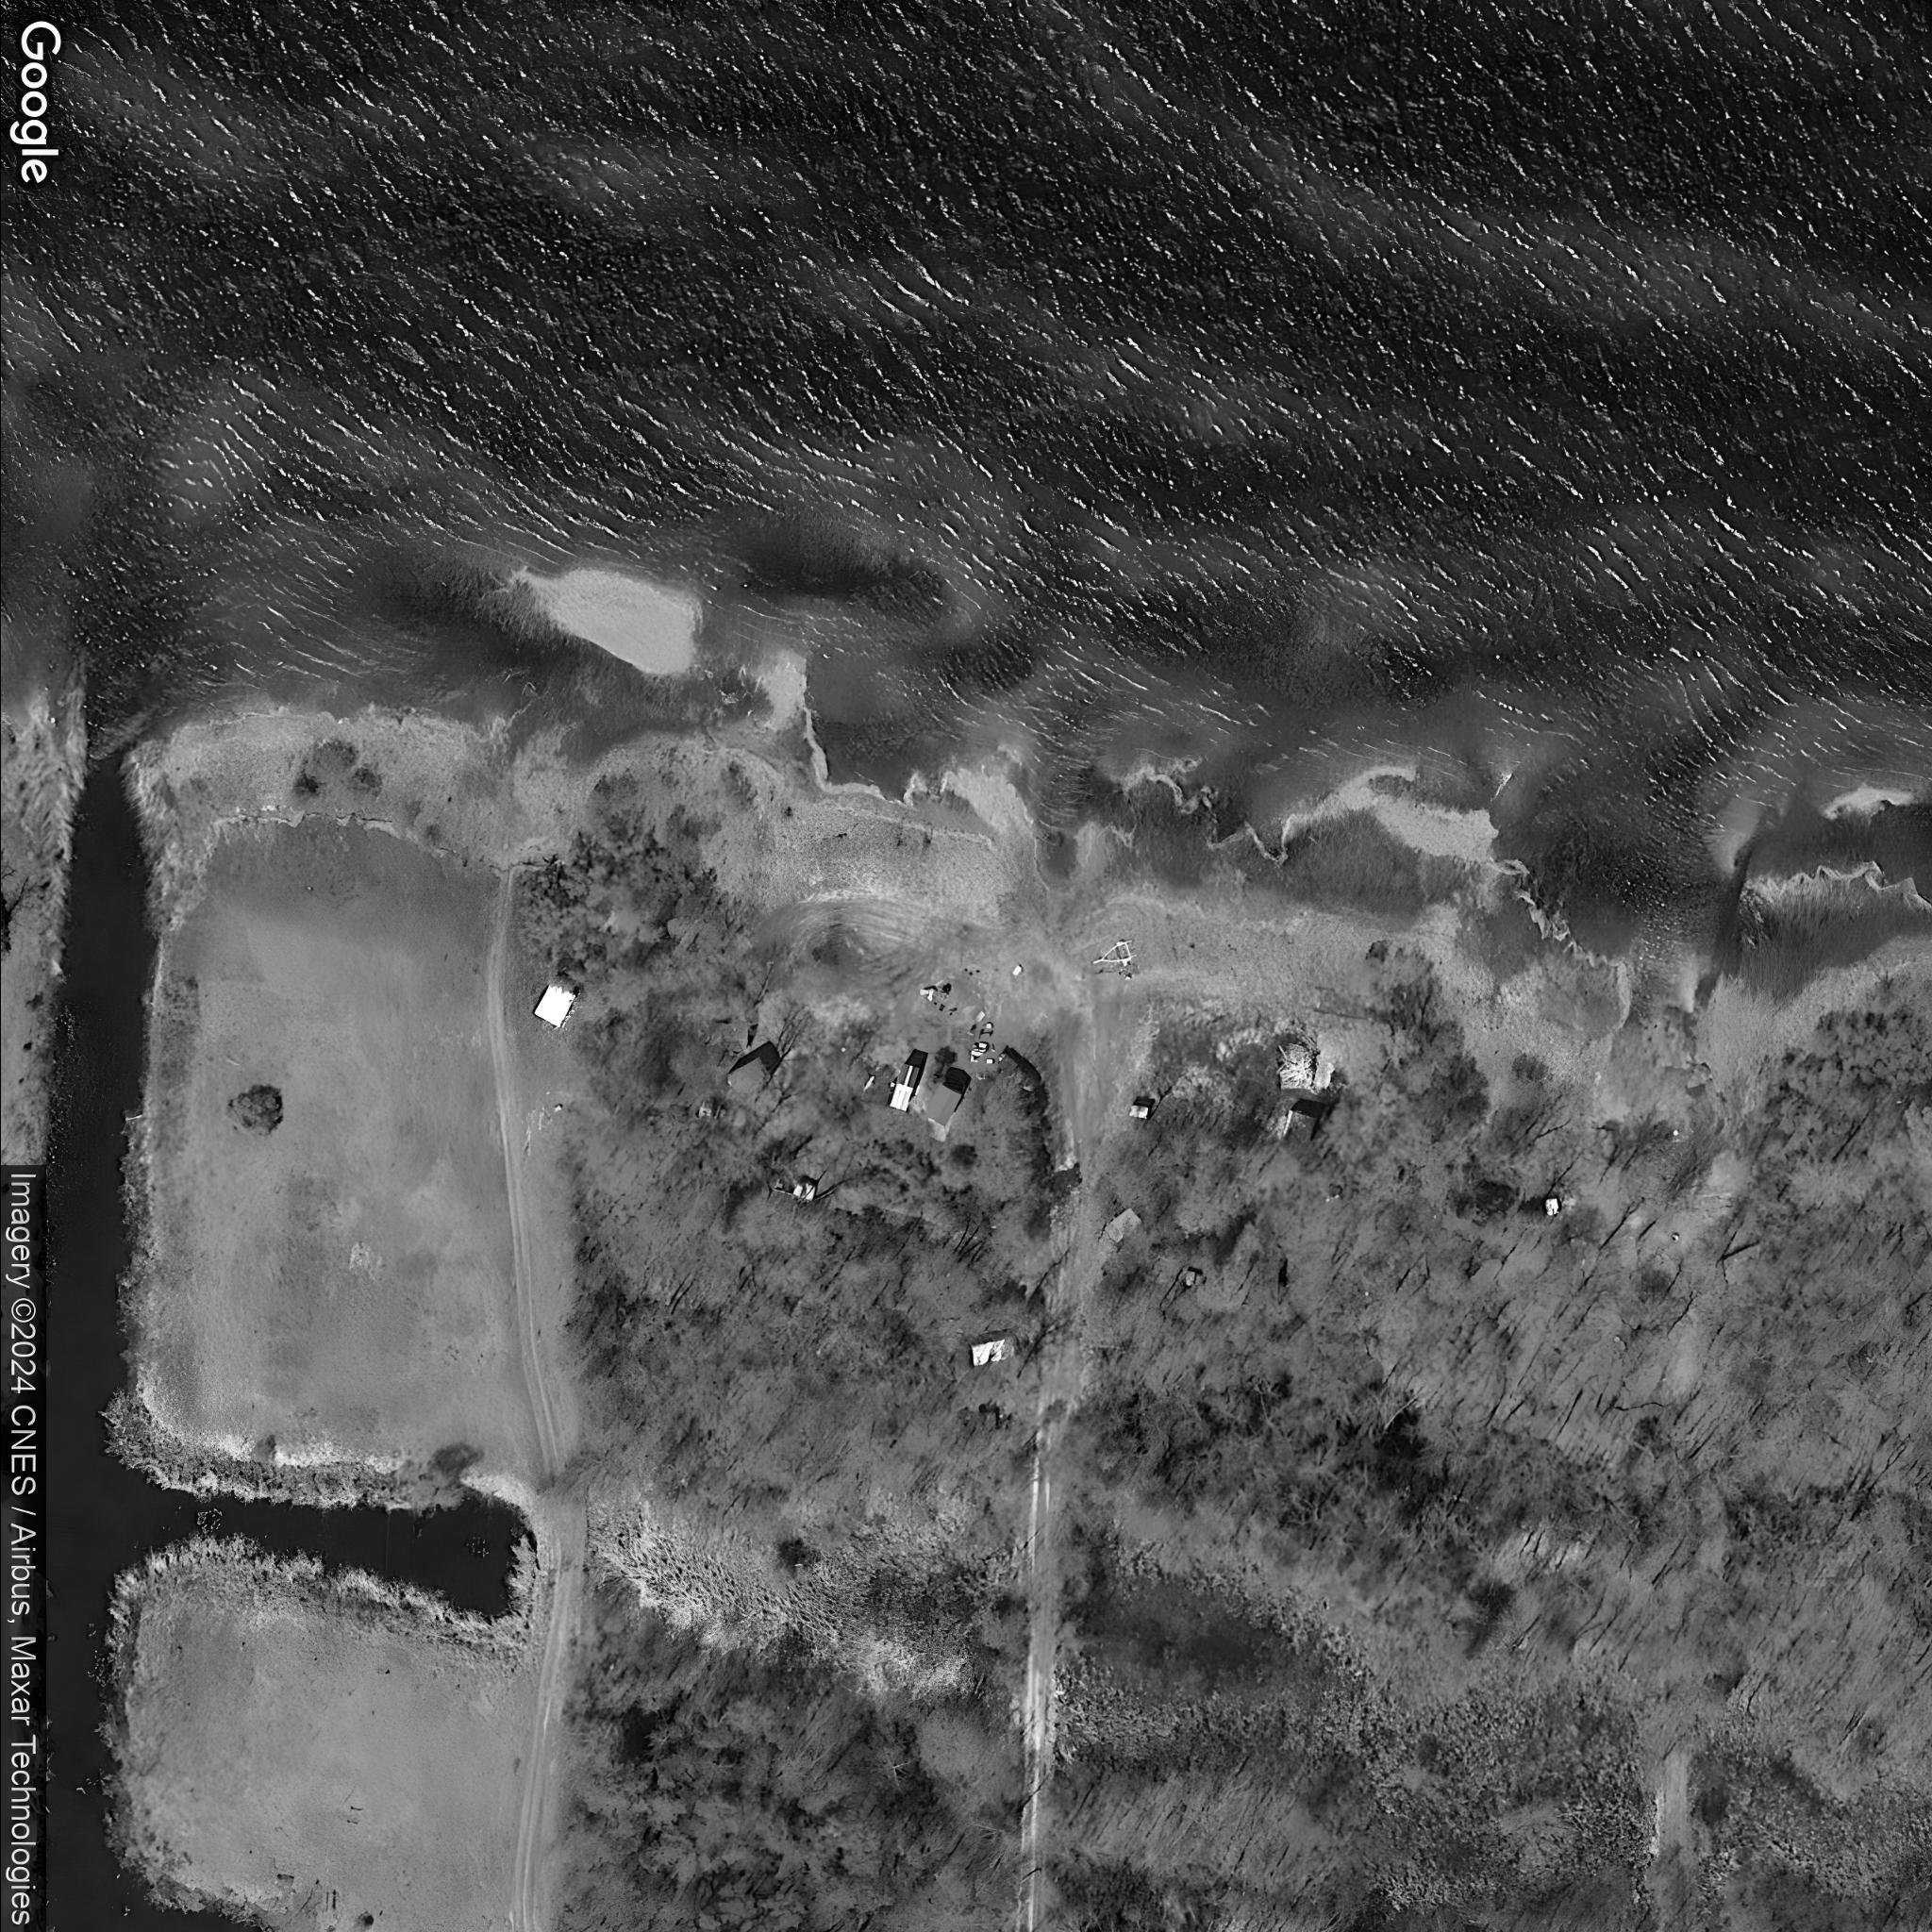Garage: (531, 978, 577, 1030), (725, 1054, 771, 1100), (920, 1083, 962, 1127), (1279, 1109, 1320, 1155)
Trailer: (971, 1332, 1016, 1369)
